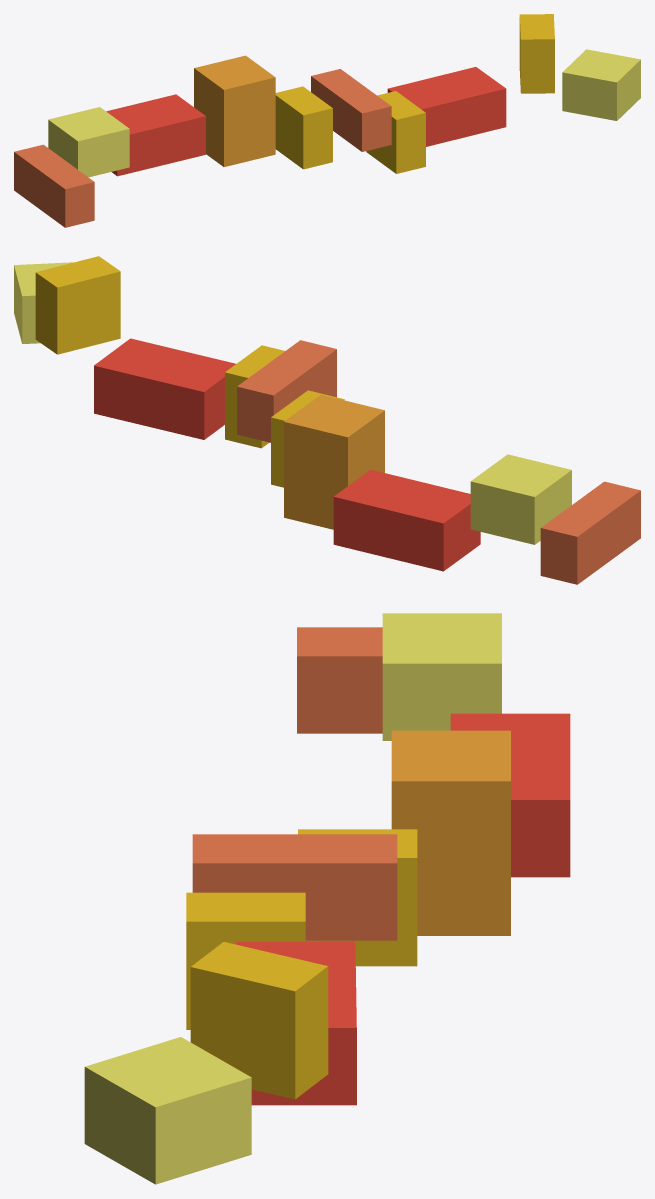
File: Lvl01_Prototype.fbx
The picture shows the model from 3 angles, top to bottom: view 1: azimuth 30°, elevation 25°; view 2: azimuth 150°, elevation 25°; view 3: azimuth 270°, elevation 25°; orthographic projection. The views are drawn at different scales.
Visible parts, largest first — view 1: HouseSET_lvl01; view 2: HouseSET_lvl01; view 3: HouseSET_lvl01.
Part boxes in pixels (left/top/right/bottom): HouseSET_lvl01: left=14, top=14, right=640, bottom=227; HouseSET_lvl01: left=14, top=256, right=640, bottom=584; HouseSET_lvl01: left=84, top=613, right=570, bottom=1184.
Bounding box in the file's own units: 7318 × 1245 × 2846.
